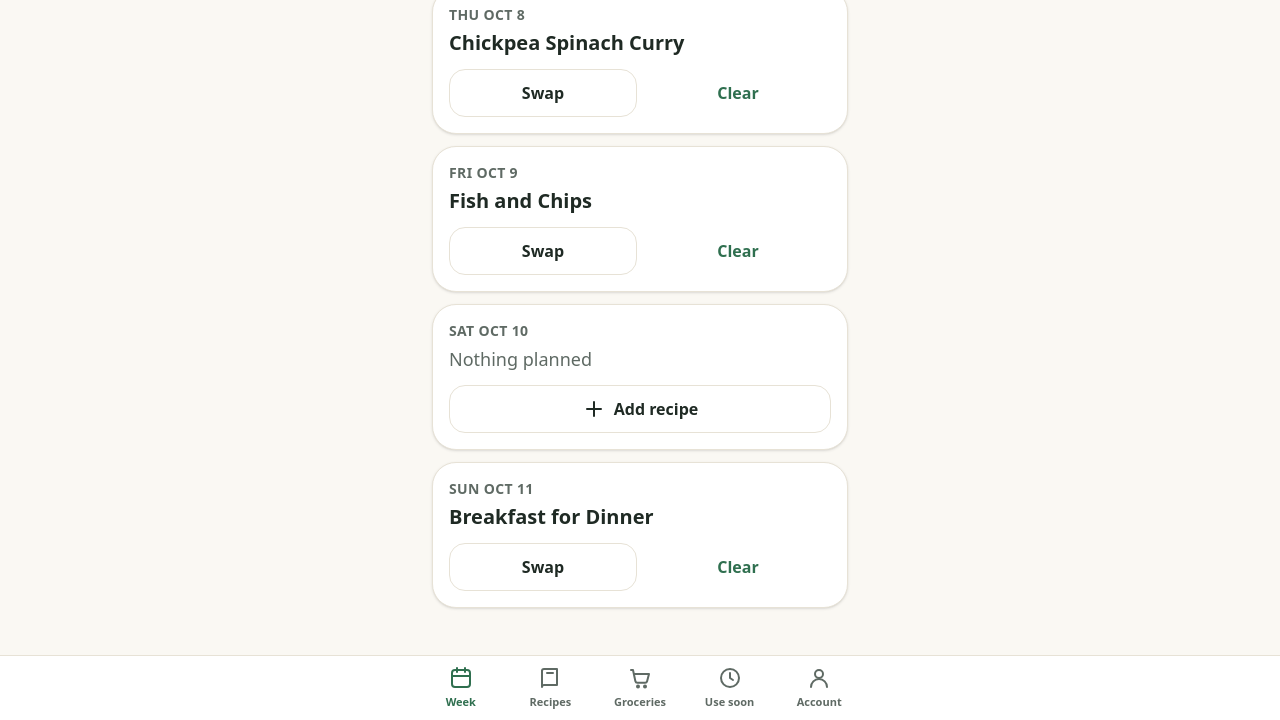
Test case: week plan › assigns a recipe to an empty day and clears it again
(page scrolled)
Click the button with aria-label "Add recipe to Sat Oct 10" at [640, 409], box x1=449 y1=385 x2=831 y2=433
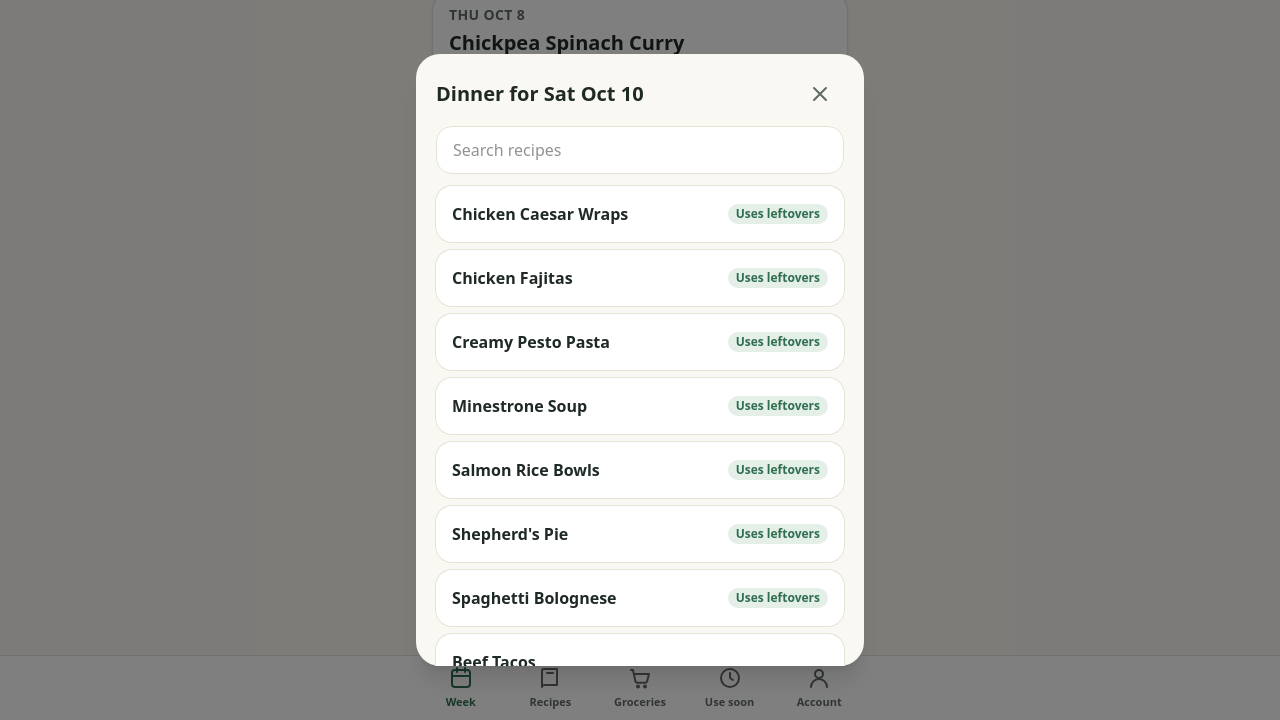
Click the button "Minestrone Soup Uses leftovers" at [520, 406], box x1=436 y1=378 x2=844 y2=434
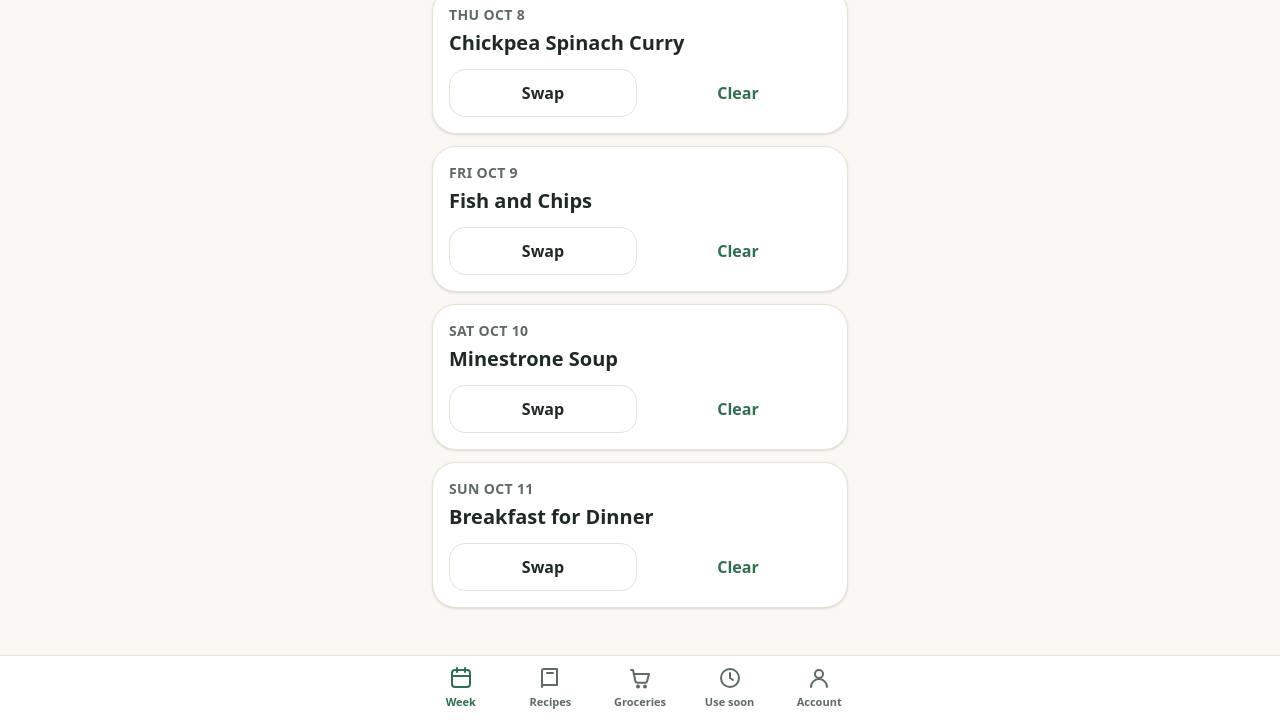
Result: the link "Minestrone Soup" is shown at x1=449 y1=345 x2=618 y2=372
Click the button with aria-label "Clear Sat Oct 10" at [738, 409], box x1=645 y1=385 x2=831 y2=433
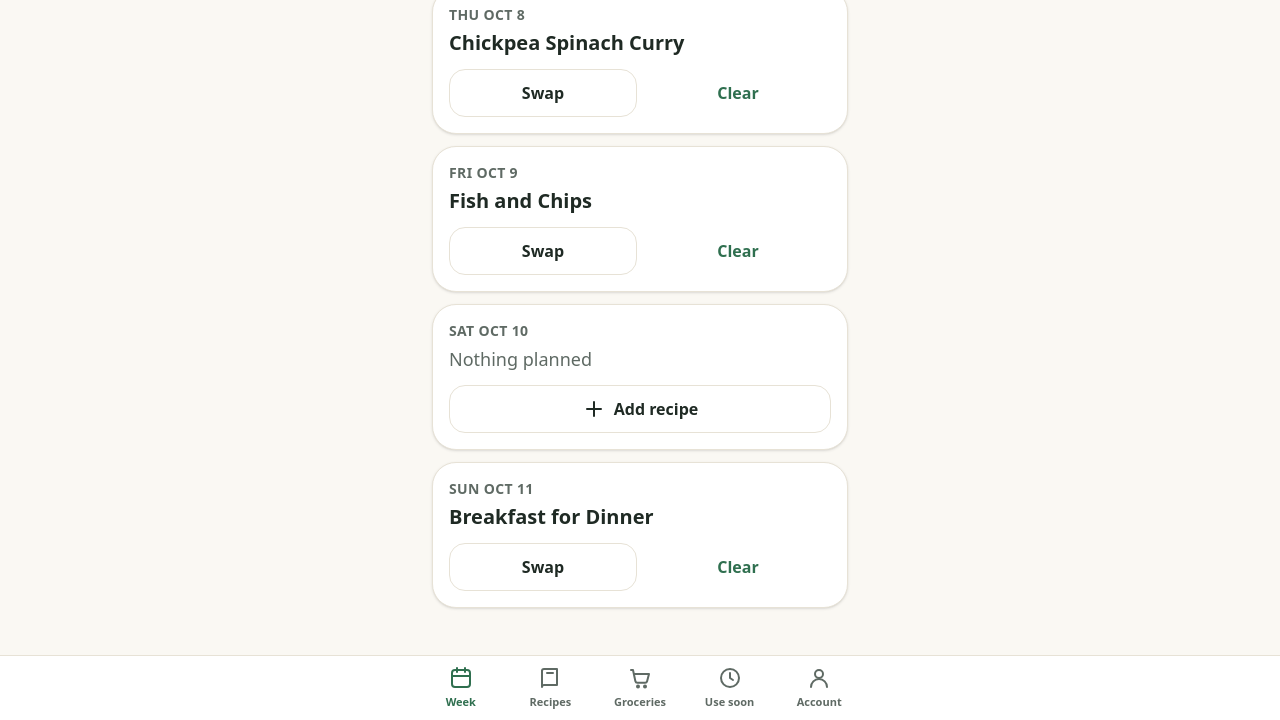
Result: the text "Nothing planned" is shown at x1=449 y1=347 x2=592 y2=371
